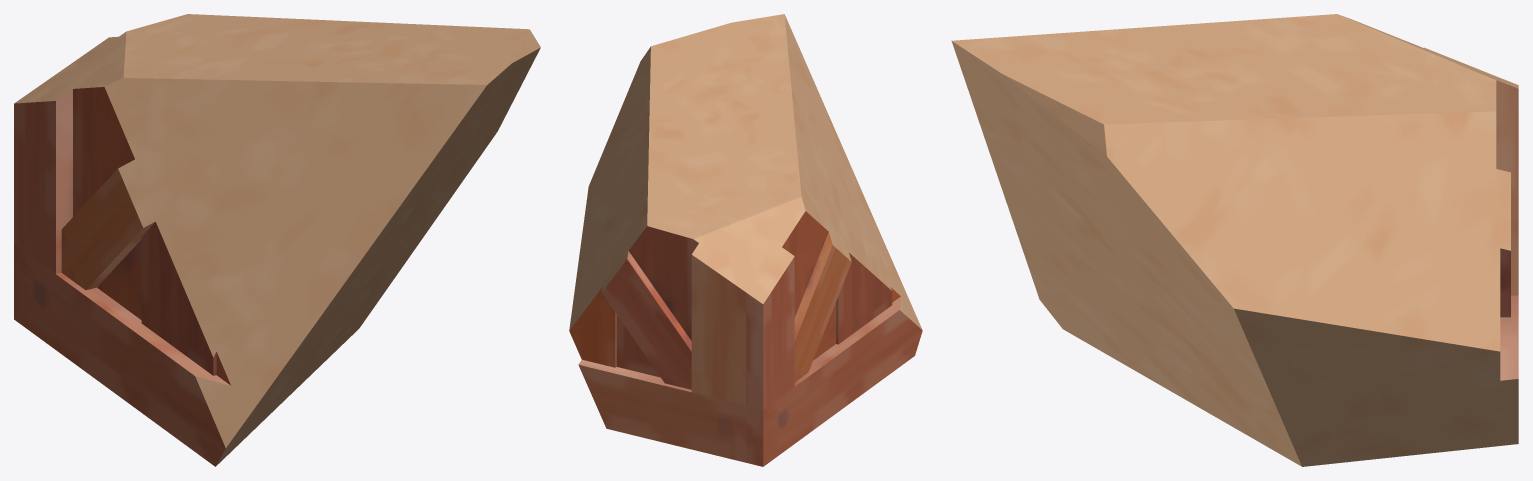
The model's file is crate_s05.fbx.
The picture shows the model from 3 angles, left to right: view 1: azimuth 30°, elevation 25°; view 2: azimuth 150°, elevation 25°; view 3: azimuth 270°, elevation 25°; orthographic projection. The views are drawn at different scales.
Visible parts, largest first — view 1: crate_s05; view 2: crate_s05; view 3: crate_s05.
Boxes of the visible parts, bbox=[...] form: crate_s05: bbox=[14, 14, 540, 466]; crate_s05: bbox=[569, 14, 922, 466]; crate_s05: bbox=[951, 14, 1518, 466].
Size of the model in its own units: 2.07 by 2.01 by 2.52.
